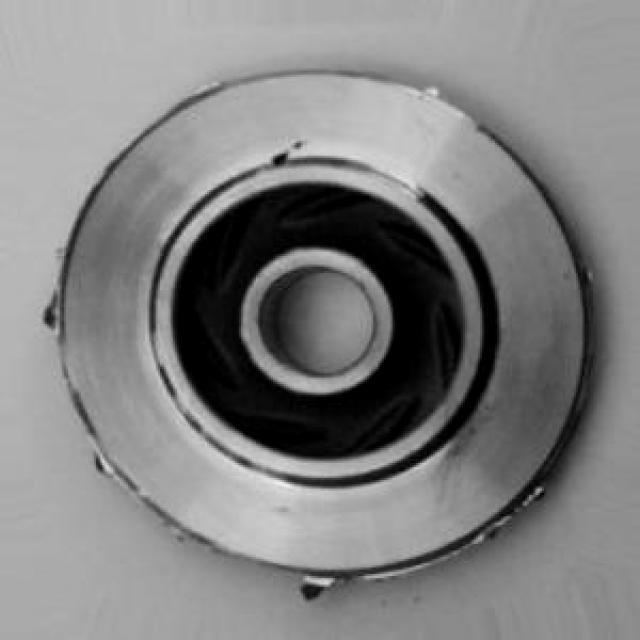Defect: (262, 134, 315, 184)
